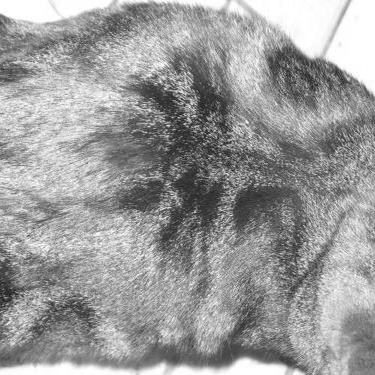cat: (1, 13, 368, 367)
